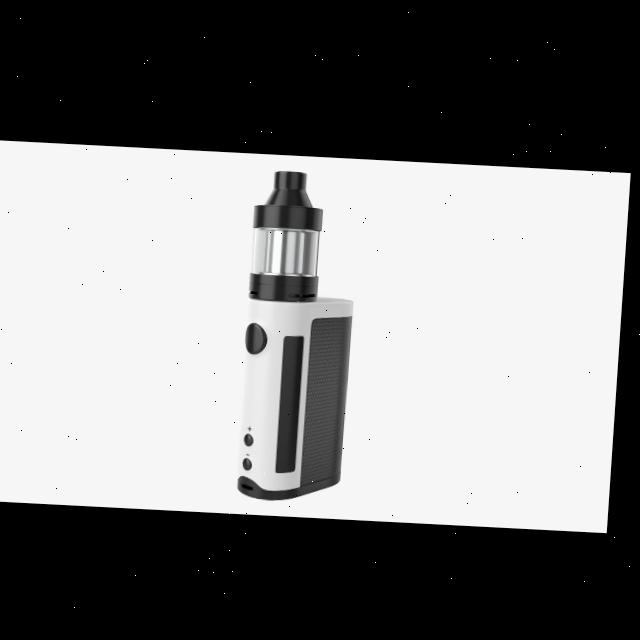vape: (242, 165, 365, 501)
